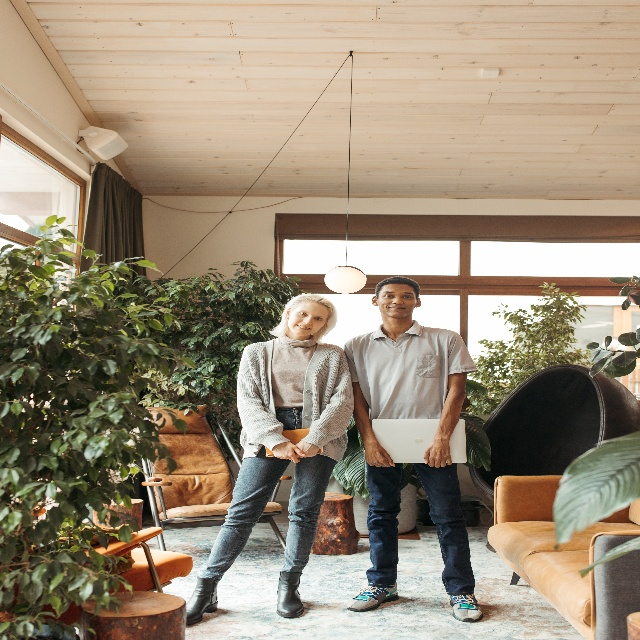Sin_guantes: (364, 440, 396, 468), (423, 441, 452, 468), (272, 441, 306, 463), (295, 440, 319, 459)
